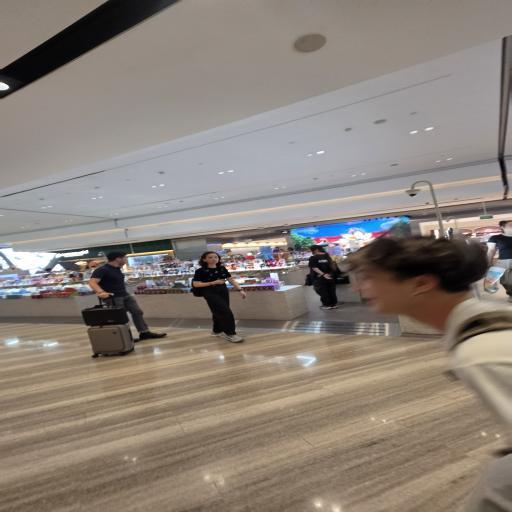person_left: (295, 241, 345, 310)
person_right: (190, 242, 256, 350)
person_with_luggage_right: (54, 240, 150, 348)
